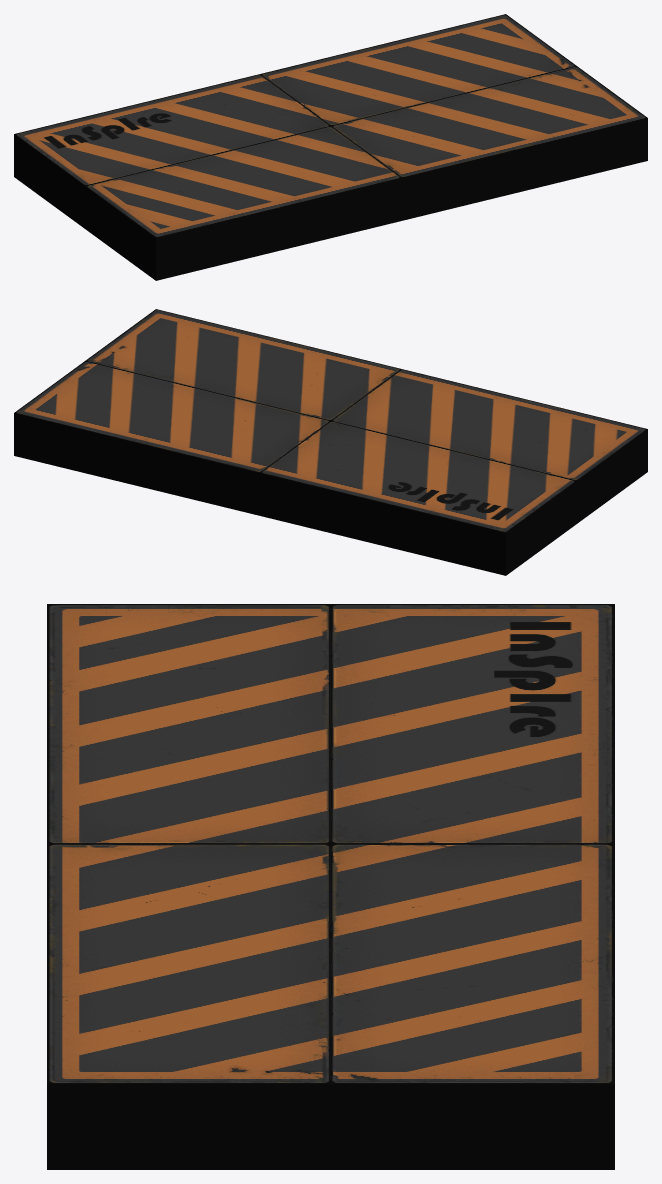
File: Floor02.dae
3 views of the same model, one above another, from view 1: azimuth 30°, elevation 25°; view 2: azimuth 150°, elevation 25°; view 3: azimuth 270°, elevation 25° (orthographic). The views are drawn at different scales.
Parts seen in each view (by area): view 1: polySurface1; view 2: polySurface1; view 3: polySurface1.
Part boxes in pixels (x1=…): polySurface1: x1=14, y1=14, x2=647, y2=280; polySurface1: x1=14, y1=309, x2=647, y2=575; polySurface1: x1=47, y1=604, x2=614, y2=1169.
Bounding box in the file's own units: 6 × 0.5 × 3.
1 material, 1 textured.
